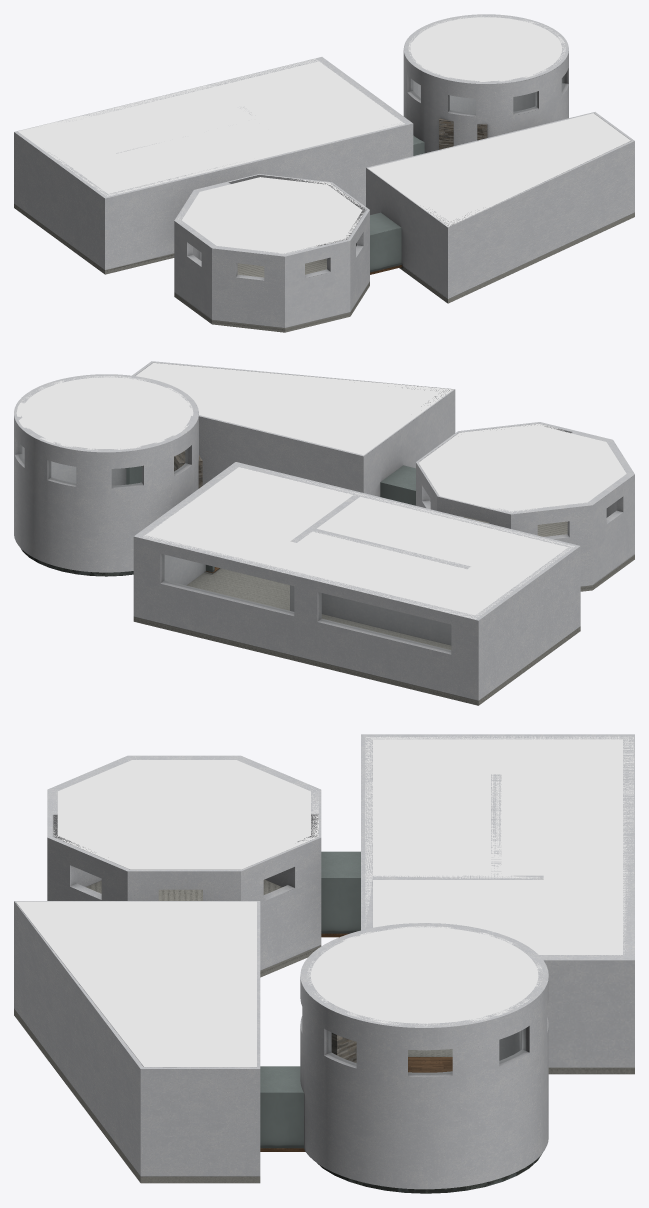
The model's file is museum.fbx.
3 renders of one model, top to bottom at view 1: azimuth 30°, elevation 25°; view 2: azimuth 150°, elevation 25°; view 3: azimuth 270°, elevation 25°, orthographic. The views are drawn at different scales.
Parts seen in each view (by area): view 1: Ceiling, RectangleRoom, AngleRoom, OctagonRoom, Ceiling2, RoundRoom, Ceiling4, Ceiling3, Walkway; view 2: RectangleRoom, Ceiling, RoundRoom, Ceiling2, Ceiling4, AngleRoom, Ceiling3, OctagonRoom, Walkway; view 3: Ceiling, RoundRoom, AngleRoom, Ceiling2, Ceiling4, RectangleRoom, OctagonRoom, Ceiling3, Walkway_2, Walkway_3, Walkway_1.
Part boxes in pixels (<box>): Ceiling: <box>18,58,404,196</box>; RectangleRoom: <box>14,57,413,274</box>; AngleRoom: <box>366,112,634,303</box>; OctagonRoom: <box>174,174,369,332</box>; Ceiling2: <box>368,113,630,226</box>; RoundRoom: <box>403,14,568,153</box>; Ceiling4: <box>178,177,365,253</box>; Ceiling3: <box>408,15,565,81</box>; Walkway: <box>370,212,402,274</box>; RectangleRoom: <box>133,462,580,705</box>; Ceiling: <box>143,467,574,619</box>; RoundRoom: <box>14,374,202,576</box>; Ceiling2: <box>136,363,453,455</box>; Ceiling4: <box>418,423,626,512</box>; AngleRoom: <box>132,361,455,496</box>; Ceiling3: <box>16,376,193,450</box>; OctagonRoom: <box>416,422,634,591</box>; Walkway: <box>380,465,415,505</box>; Ceiling: <box>365,736,633,955</box>; RoundRoom: <box>300,923,548,1193</box>; AngleRoom: <box>14,901,260,1183</box>; Ceiling2: <box>16,901,256,1066</box>; Ceiling4: <box>53,759,318,869</box>; RectangleRoom: <box>361,734,634,1074</box>; OctagonRoom: <box>47,755,321,977</box>; Ceiling3: <box>307,926,542,1026</box>; Walkway_2: <box>260,1066,305,1151</box>; Walkway_3: <box>321,851,360,937</box>; Walkway_1: <box>408,1057,452,1072</box>.
Size of the model in its own units: 554 by 125 by 419.
